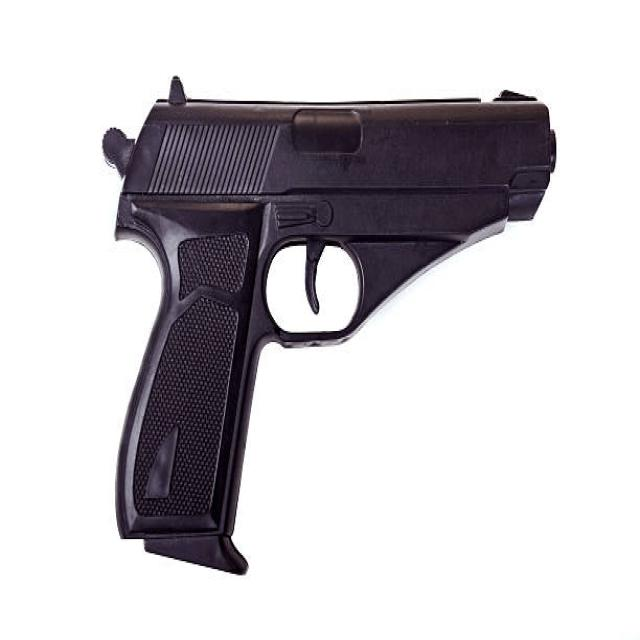pistol: (97, 70, 575, 590)
